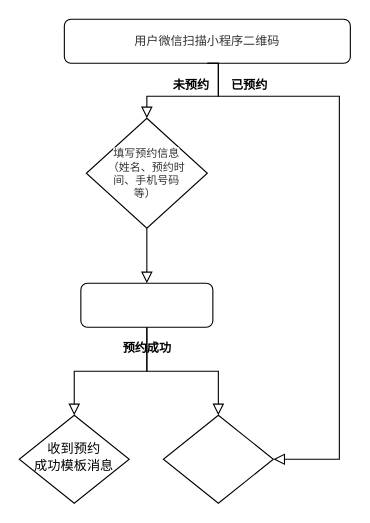
Image size: 370x523. Some labels were removed from this diagram. The shapes that lost their labels are listed below. From the top down, each one's box as (x1, y1, x2, y2) in pixels, then its label:
(80, 282, 213, 327): 点击预约按钮
(162, 414, 273, 503): 展示预约 成功信息
